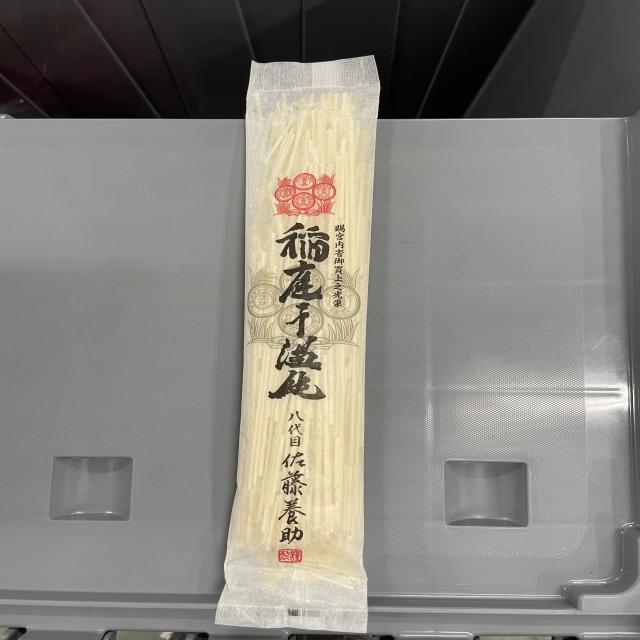object_name: (252, 64, 360, 636)
